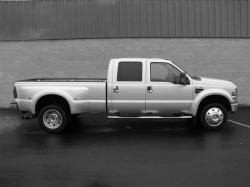car: (12, 57, 240, 134)
